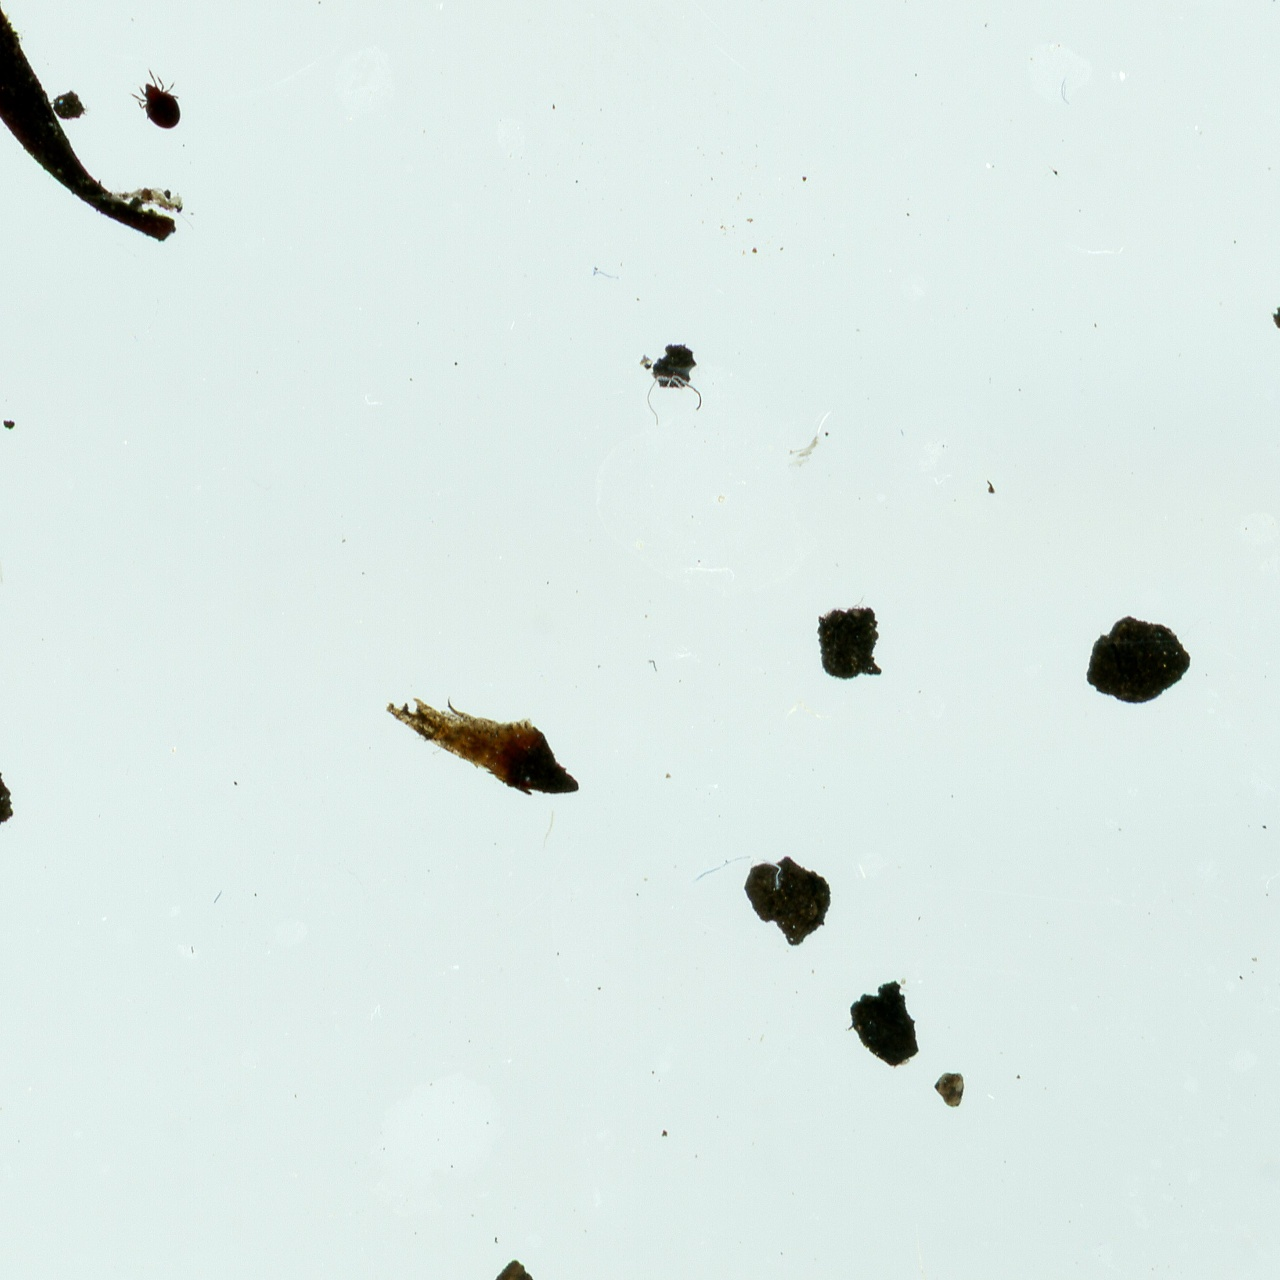arthropod: (128, 65, 195, 137), (0, 467, 19, 617)
